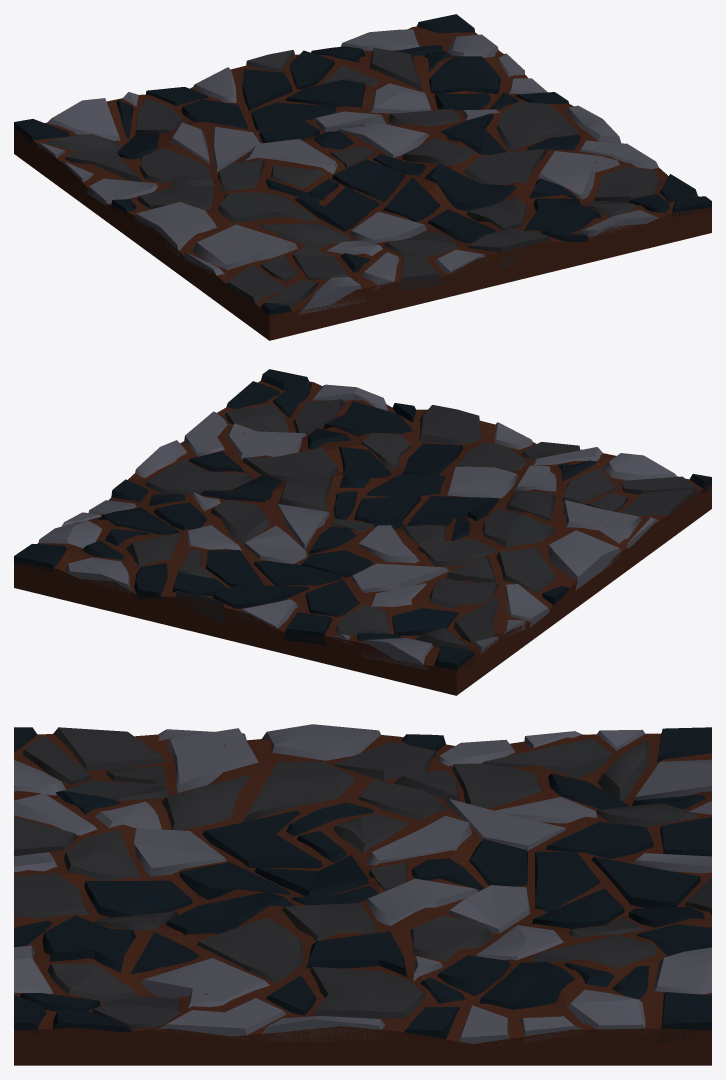
File: Ground_Stones_2.fbx
3 renders of one model, top to bottom at view 1: azimuth 30°, elevation 25°; view 2: azimuth 150°, elevation 25°; view 3: azimuth 270°, elevation 25°, orthographic. The views are drawn at different scales.
Parts seen in each view (by area): view 1: Ground_Stones_2; view 2: Ground_Stones_2; view 3: Ground_Stones_2.
Boxes of the visible parts, box(x1,y1,x2,y2) form: Ground_Stones_2: box(14, 14, 711, 340); Ground_Stones_2: box(14, 369, 711, 695); Ground_Stones_2: box(14, 724, 711, 1065).
Size of the model in its own units: 147 by 12.82 by 147.
